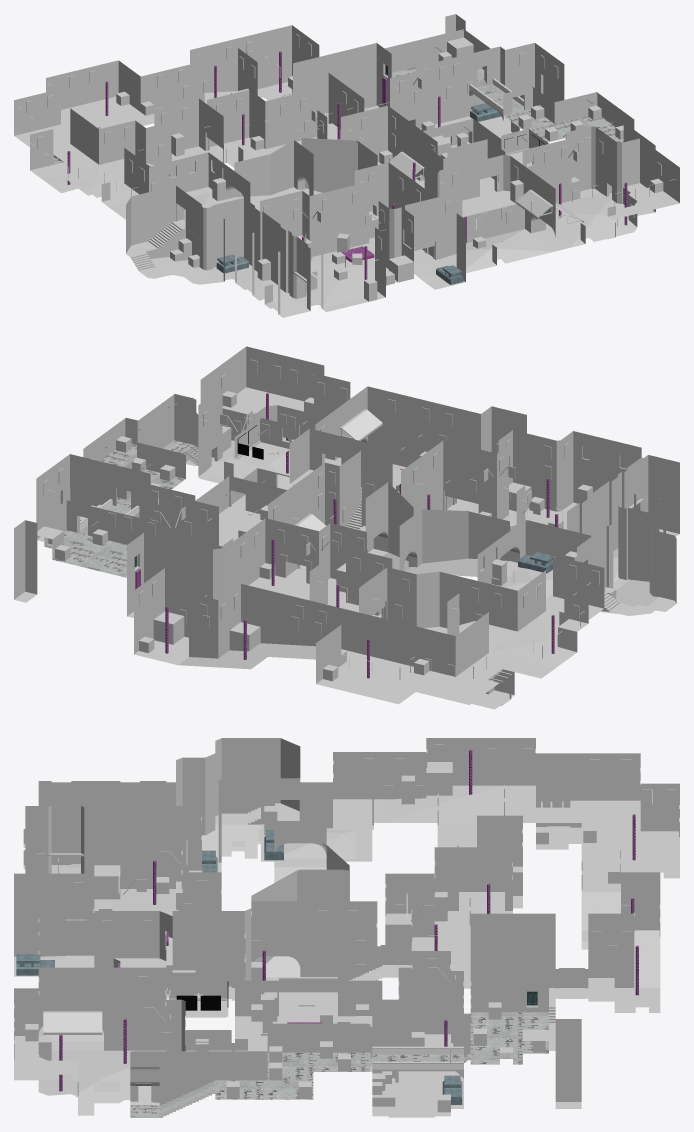
The model's file is de_dolc.glb.
The picture shows the model from 3 angles, top to bottom: view 1: azimuth 30°, elevation 25°; view 2: azimuth 150°, elevation 25°; view 3: azimuth 270°, elevation 25°; orthographic projection. The views are drawn at different scales.
Visible parts, largest first — view 1: *0, *4; view 2: *0, *4, *19; view 3: *0, *4, *2, *29, *34, *11.
Part boxes in pixels (left/top/right/bottom): *0: left=14, top=14, right=679, bottom=317; *4: left=297, top=211, right=413, bottom=301; *0: left=14, top=346, right=679, bottom=709; *4: left=479, top=482, right=592, bottom=530; *19: left=518, top=552, right=554, bottom=573; *0: left=14, top=738, right=679, bottom=1117; *4: left=94, top=865, right=202, bottom=938; *2: left=195, top=992, right=372, bottom=1051; *29: left=372, top=1048, right=463, bottom=1069; *34: left=16, top=954, right=54, bottom=975; *11: left=176, top=981, right=228, bottom=1010.
Size of the model in its own units: 109 by 13.44 by 97.68.
8 materials, 7 textured.
